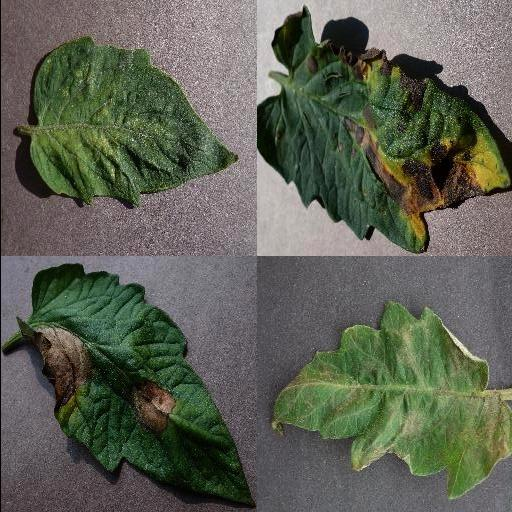Early Blight: (256, 9, 510, 254)
Late Blight: (18, 263, 254, 507), (268, 300, 512, 499)
Spider Mites: (25, 37, 239, 207)
